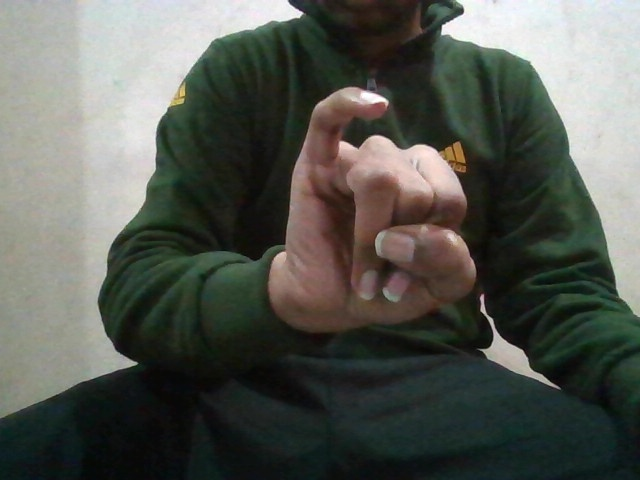J: (281, 81, 484, 324)
